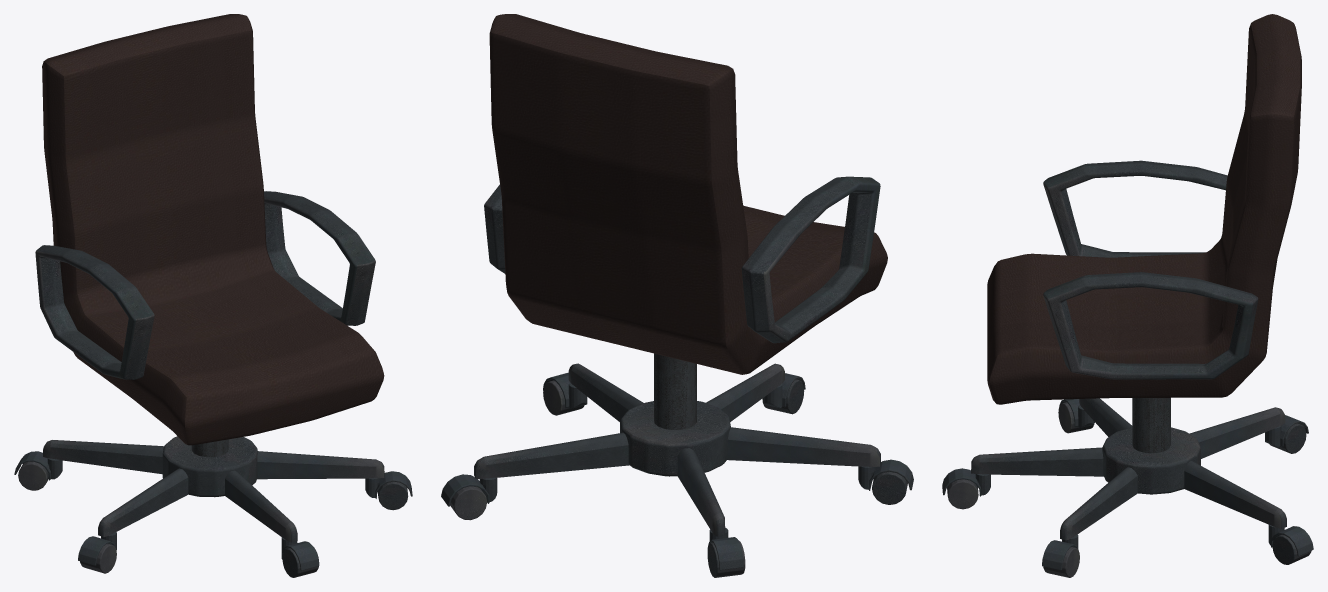
The model's file is Seat.fbx.
3 views of the same model, side by side, from view 1: azimuth 30°, elevation 25°; view 2: azimuth 150°, elevation 25°; view 3: azimuth 270°, elevation 25° (orthographic). The views are drawn at different scales.
Visible parts, largest first — view 1: polySurface1252; view 2: polySurface1252; view 3: polySurface1252.
Part boxes in pixels (x1=…): polySurface1252: x1=14, y1=14, x2=412, y2=577; polySurface1252: x1=441, y1=14, x2=913, y2=577; polySurface1252: x1=942, y1=14, x2=1313, y2=577.
Size of the model in its own units: 0.7858 by 0.9852 by 0.7536.
Materials: 1 (1 with a texture image).
